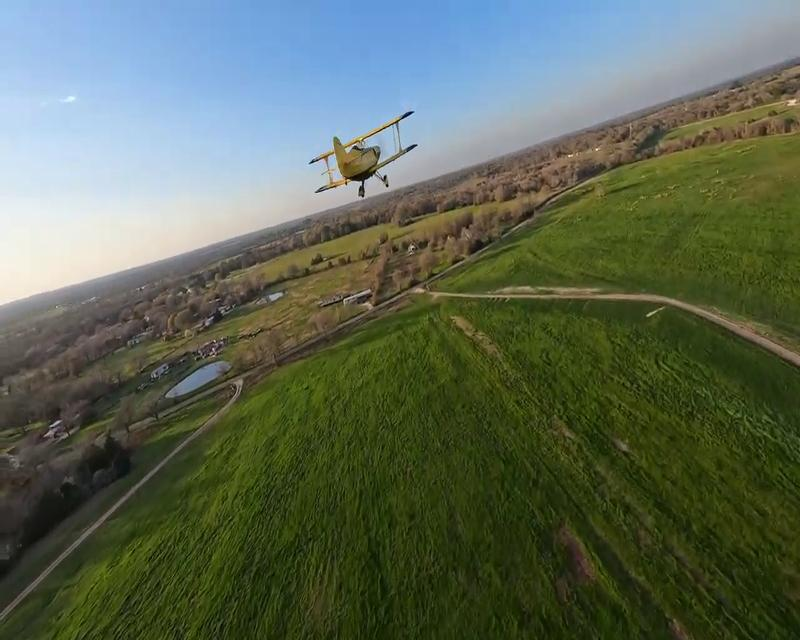UAV: (307, 109, 418, 198)
